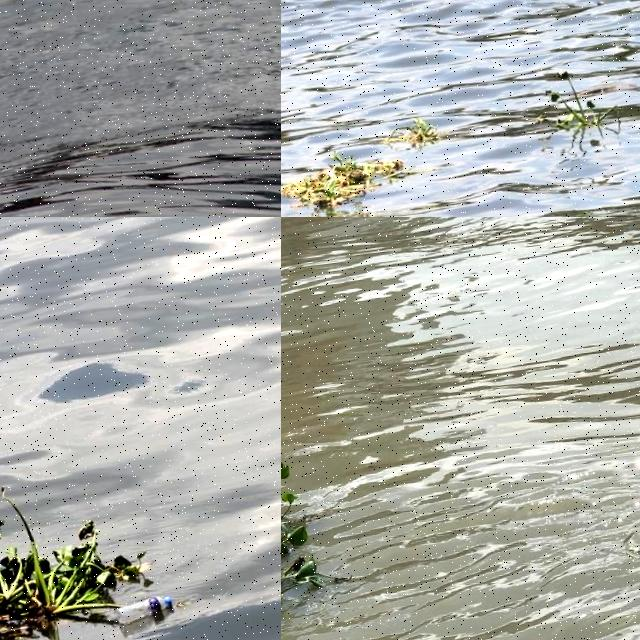water-hyacinth: (1, 476, 159, 640), (282, 149, 405, 215), (531, 64, 625, 146), (282, 451, 323, 601)
